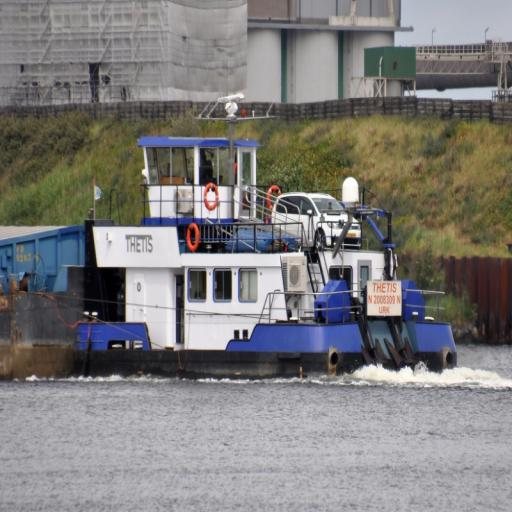tugboat: (72, 90, 461, 391)
